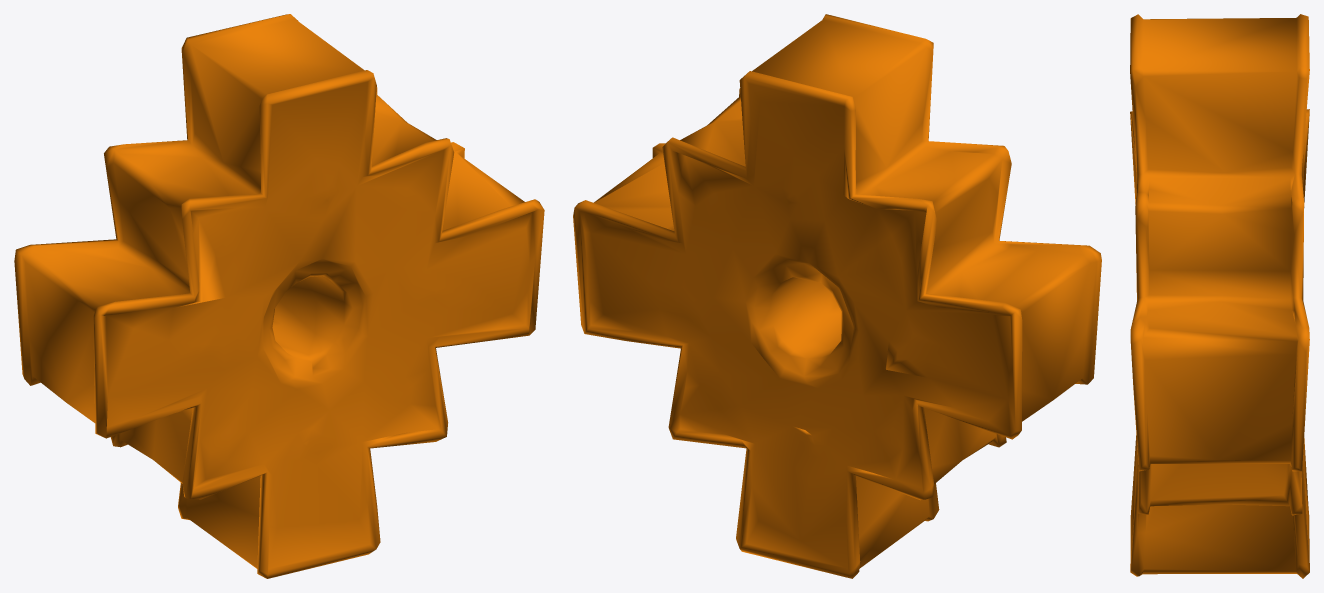
File: coinx5.glb
3 renders of one model, left to right at view 1: azimuth 30°, elevation 25°; view 2: azimuth 150°, elevation 25°; view 3: azimuth 270°, elevation 25°, orthographic. The views are drawn at different scales.
Parts seen in each view (by area): view 1: CHAKANA.007; view 2: CHAKANA.007; view 3: CHAKANA.007.
Boxes of the visible parts, bbox=[...] form: CHAKANA.007: bbox=[14, 14, 544, 578]; CHAKANA.007: bbox=[573, 14, 1101, 578]; CHAKANA.007: bbox=[1130, 14, 1309, 578].
Bounding box in the file's own units: 2.11 × 2.17 × 0.6918.
